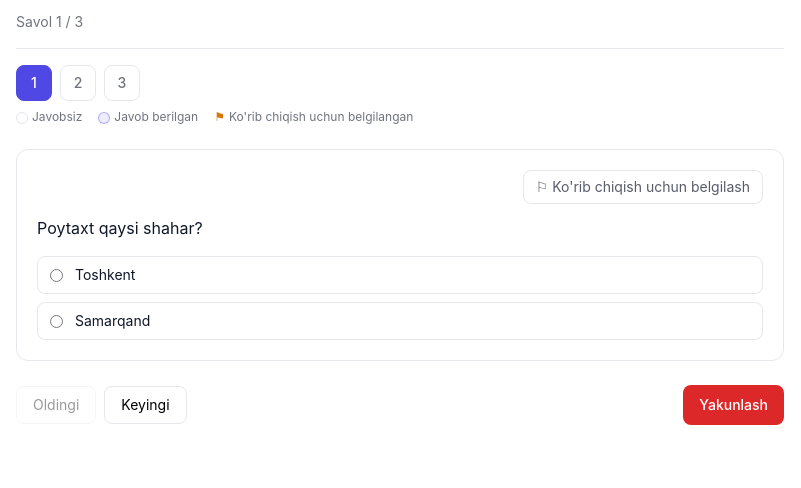
Scenario: AttemptPage — Sprint 67 (C2) multiple_choice support › TEST 3: true_false question renders radio inputs, not checkboxes
The image size is (801, 488).
Check: the text "Toshkent" is shown, box left=75, top=265, right=135, bottom=285
Click the button "Keyingi" at (145, 405), box left=104, top=386, right=187, bottom=424
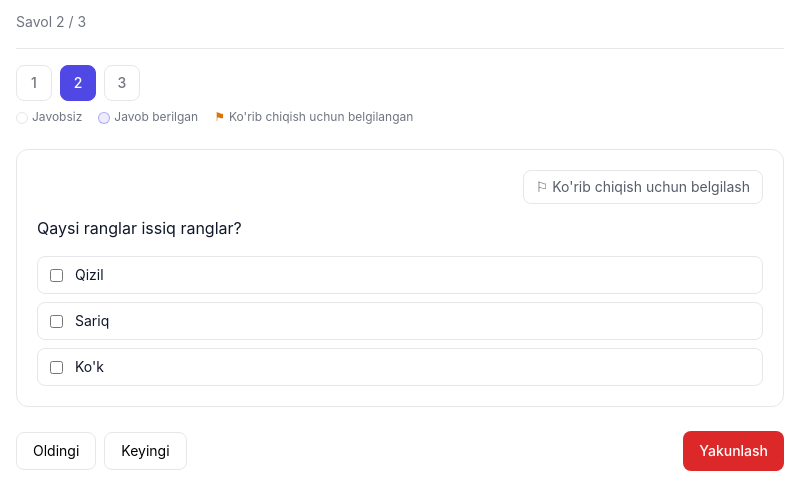
Click the button "Keyingi" at (145, 451), box left=104, top=432, right=187, bottom=470
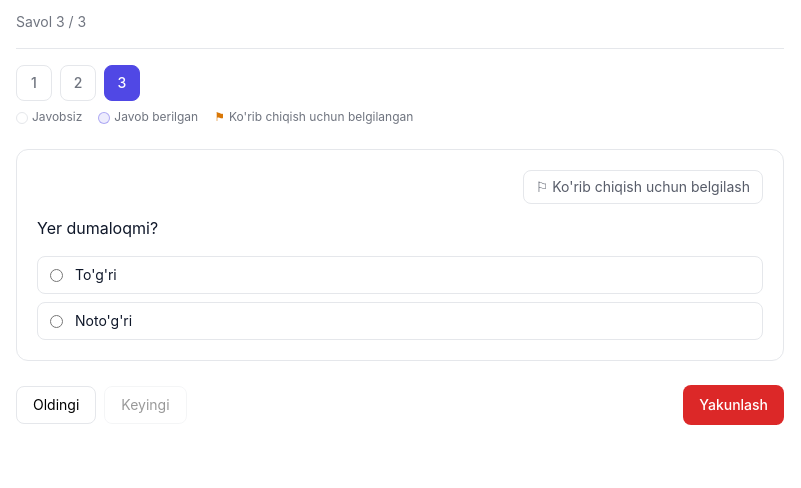
Check: the text "To'g'ri" is shown, box left=75, top=265, right=117, bottom=285
Check: the radio button labelled "To'g'ri" is shown, box left=50, top=268, right=63, bottom=282
Check: the checkbox is gone
